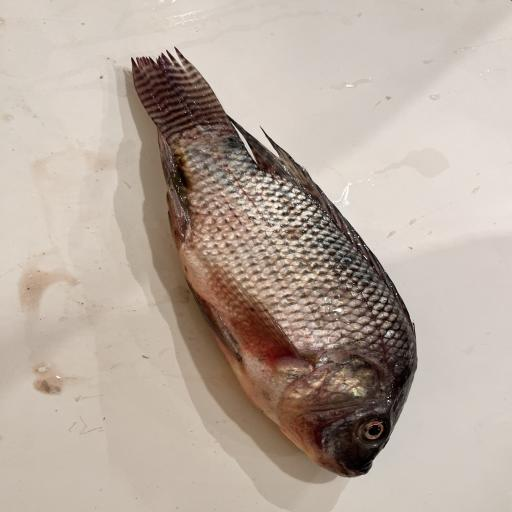Tilapia: (131, 47, 418, 478)
